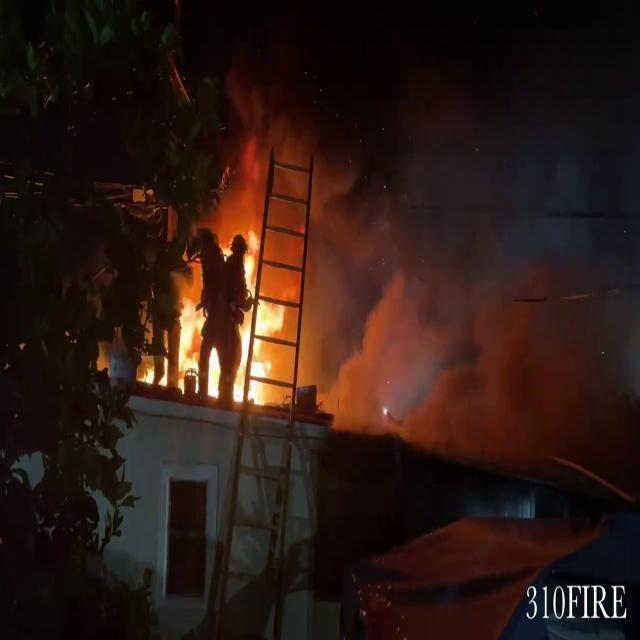Fire: (144, 232, 304, 409)
Smoke: (206, 33, 640, 434)
